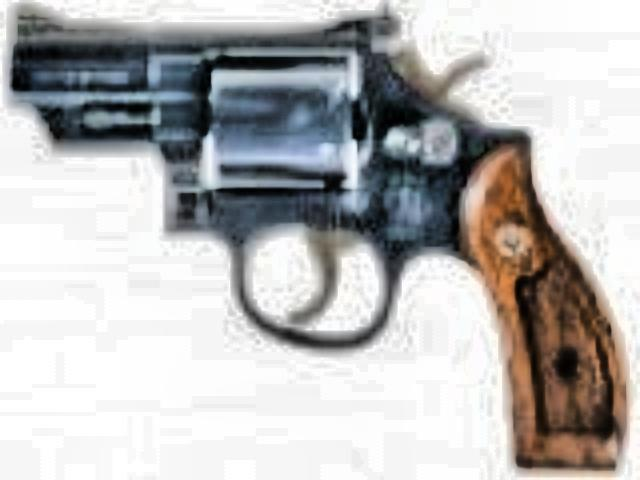pistol: (12, 0, 620, 472)
